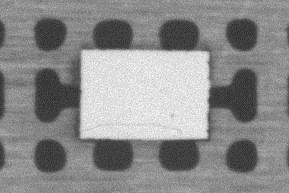DIE_INK: (168, 111, 179, 122)
